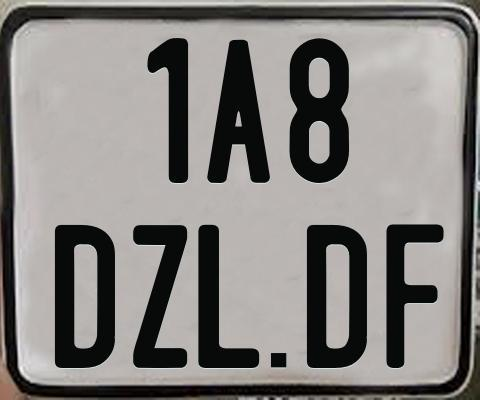1: (145, 38, 191, 189)
8: (289, 37, 354, 184)
A: (204, 37, 269, 182)
D: (307, 222, 372, 368), (54, 224, 118, 372)
F: (386, 224, 444, 371)
L: (198, 222, 260, 367)
Z: (132, 225, 186, 374)
